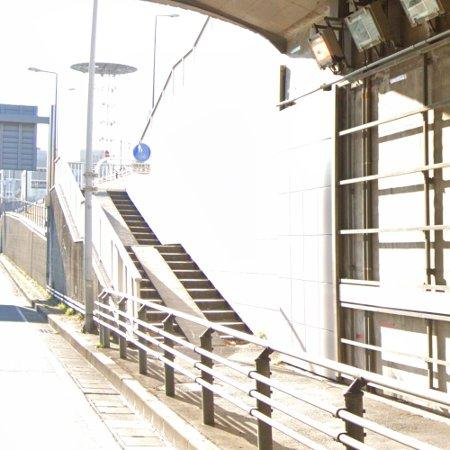stairs: (109, 193, 250, 332), (155, 245, 251, 333), (108, 191, 160, 246), (126, 246, 164, 306), (147, 310, 165, 327)
